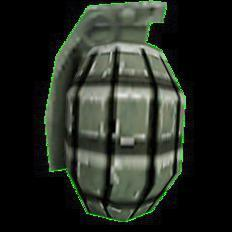Grenade: (46, 1, 186, 221)
